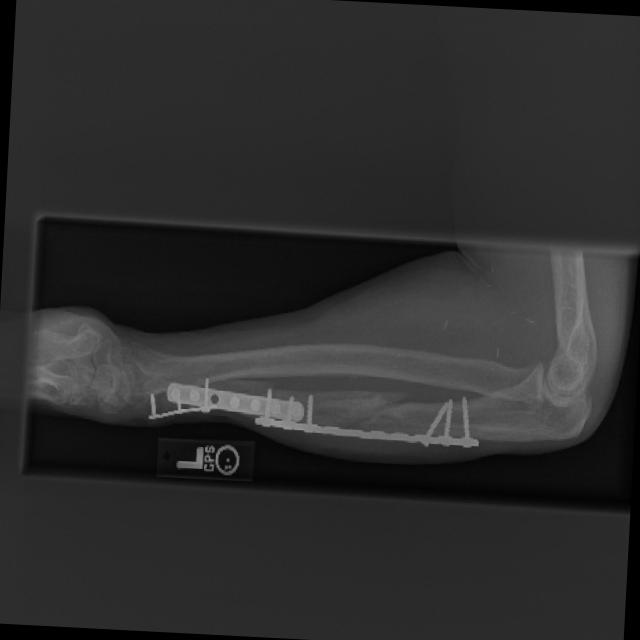forearm fracture: (332, 375, 425, 448)
